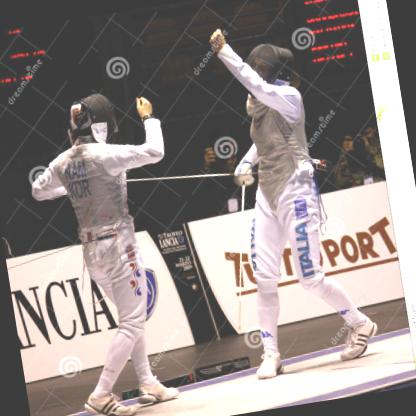fencer: (177, 6, 398, 387), (12, 77, 214, 415)
